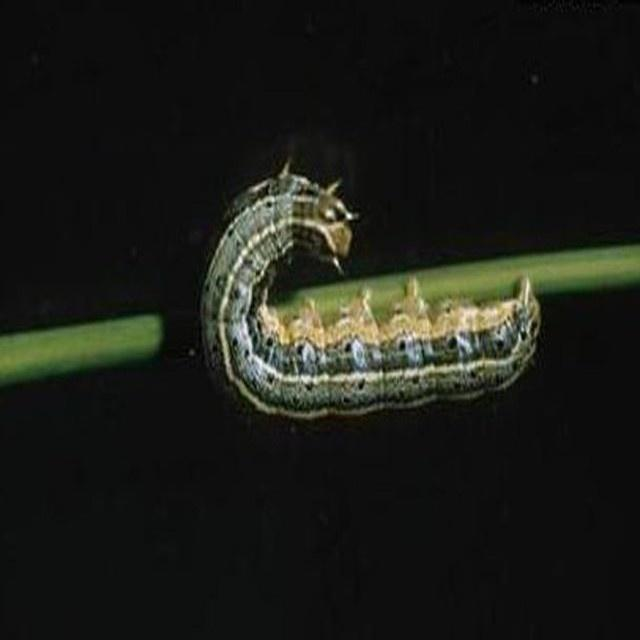gusano_cogollero: (192, 160, 542, 426)
